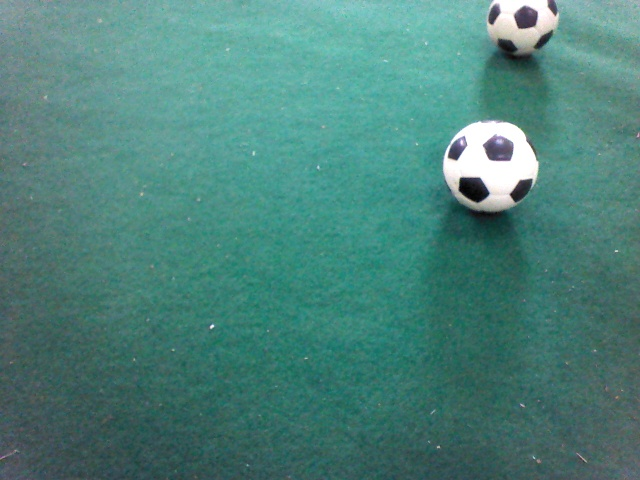ball: (443, 58, 564, 173)
